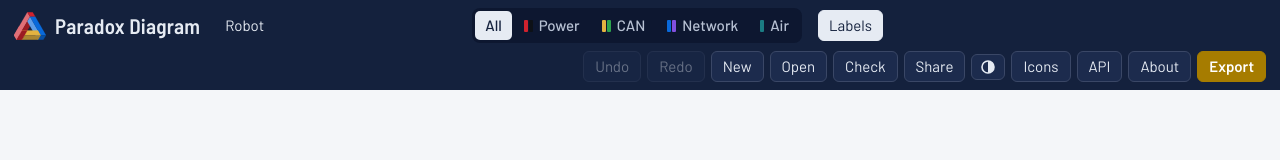
Check with no problems says so
The image size is (1280, 160).
Step 1. Click the button "Check" → (865,66), box top-left (833, 51), bottom-right (898, 82)
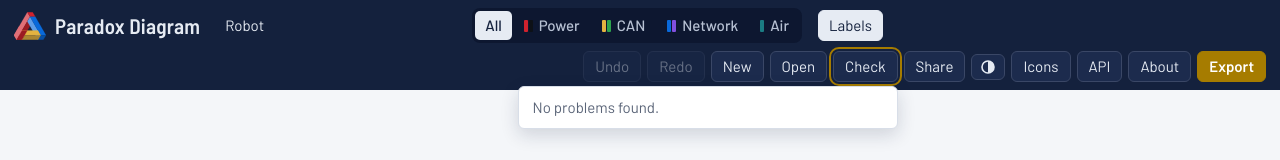
expect the menu reads "No problems found.": met, box top-left (532, 98), bottom-right (659, 116)
